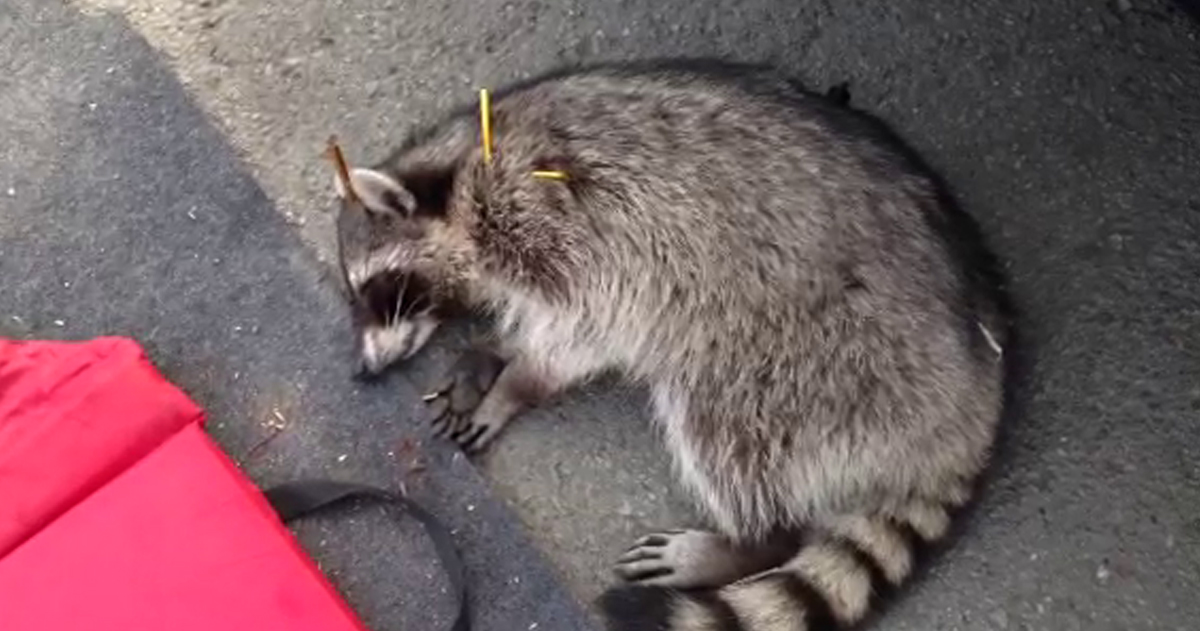raccoon: (300, 63, 1047, 631)
